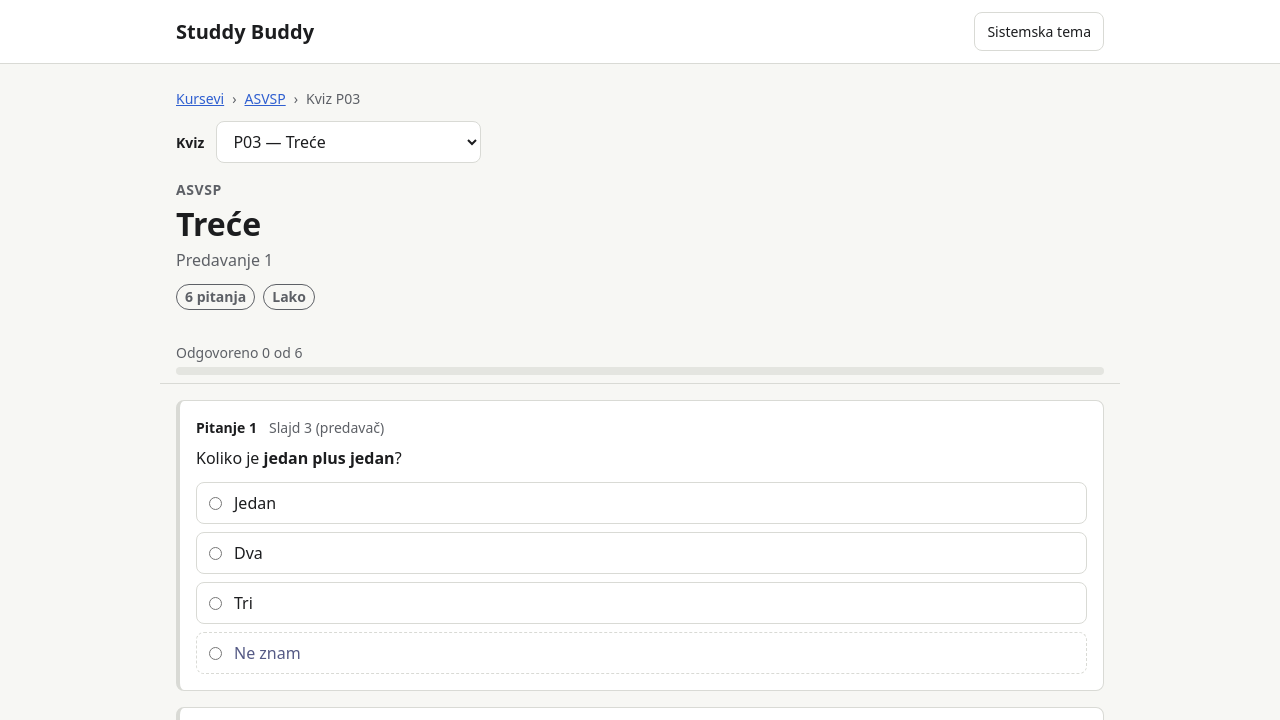
Test: QuizPage player › picker › opens the newest quiz of the course and navigates when changed
Expected: the heading "Treće" is shown, [176,202,261,245]
Select "P02 — Drugo" in the dropdown labelled "Kviz": (349, 142) [216,121,481,163]
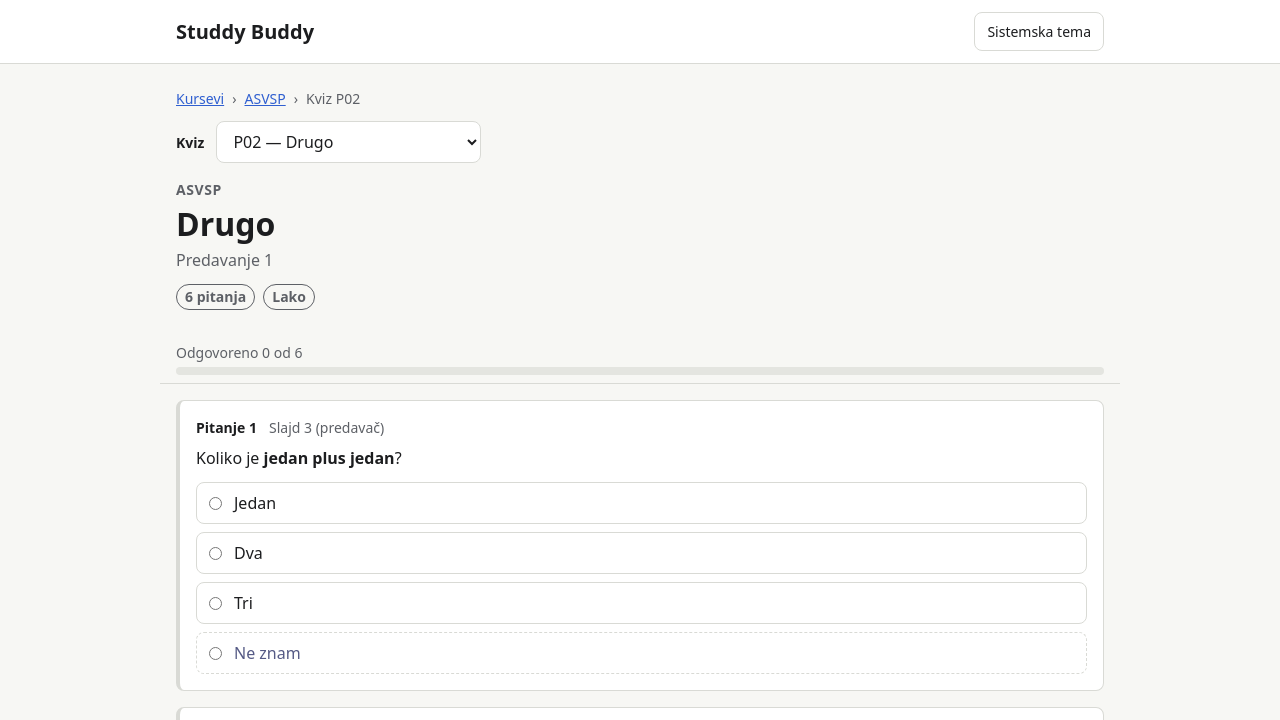
Result: the heading "Drugo" is shown at [176,202,275,245]
Result: the dropdown labelled "Kviz" shows "P02 — Drugo" at [216,121,481,163]
